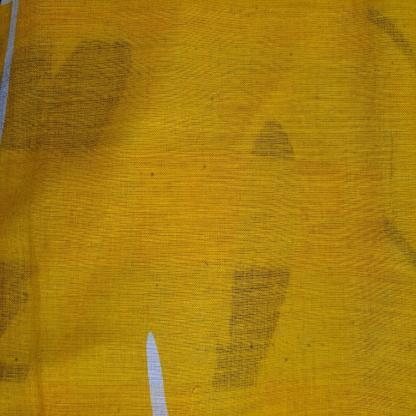spot: (144, 160, 161, 186), (244, 332, 259, 356), (282, 339, 294, 368), (198, 154, 212, 174), (304, 332, 316, 354), (285, 46, 297, 67)
